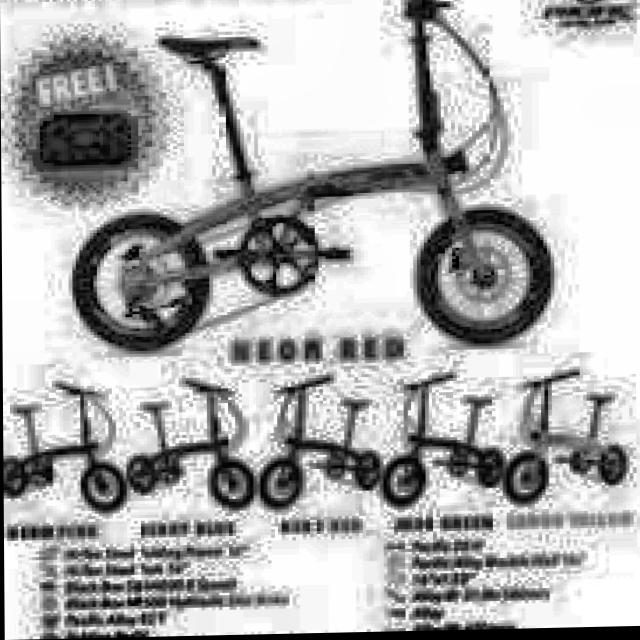motorcycle: (63, 0, 568, 361)
